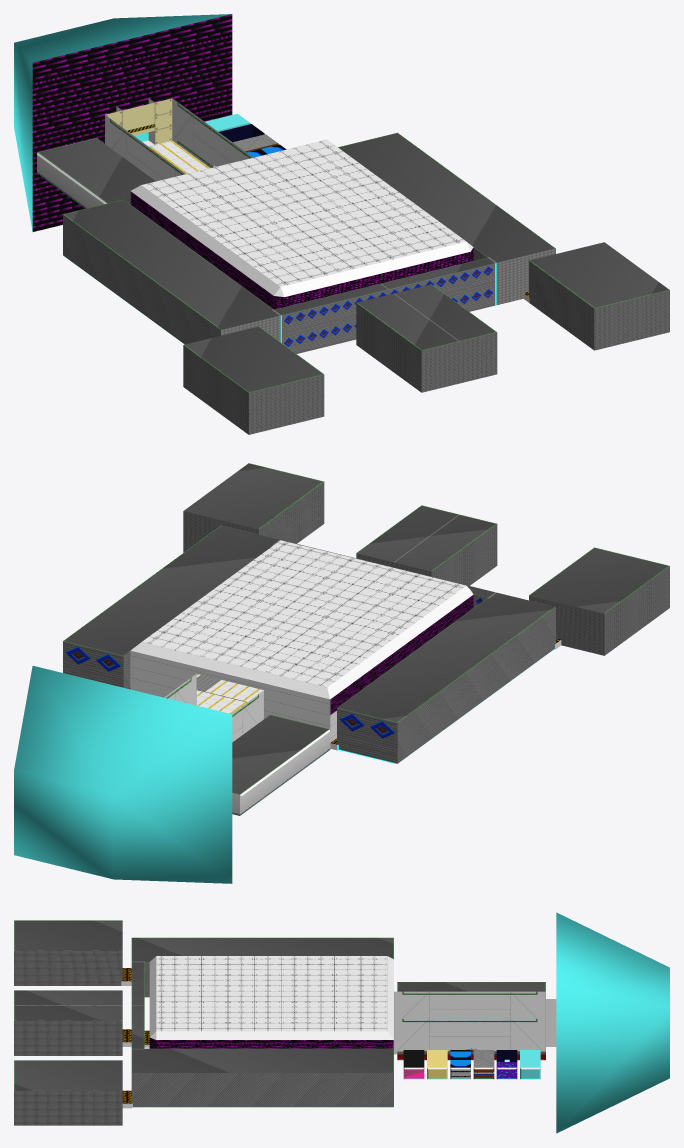
Rendered from SpaceShipLayoutInteriorMeshLayersLightingSubd.fbx.
The picture shows the model from 3 angles, top to bottom: view 1: azimuth 30°, elevation 25°; view 2: azimuth 150°, elevation 25°; view 3: azimuth 270°, elevation 25°; orthographic projection. The views are drawn at different scales.
Visible parts, largest first — view 1: MainCeilings, CockpitBackWall, window, LeftEngineRoomWalls, MiddleEngineRoomWalls, RightEngineRoomWalls, StoreRoomOuterWalls, EngineCorridorWalls, BridgeConnectorWalls, angledCeilings, Bridge2Walls, BridgeAboveDoorwayWalls (+3 smaller); view 2: MainCeilings, window, Bridge2Walls, StoreRoomOuterWalls, LeftEngineRoomWalls, angledCeilings, RightEngineRoomWalls, MiddleEngineRoomWalls, LeftStoreToBridge2Wall, RightStoreToBridge2Wall, LabWalls, BridgeConnectorWalls (+1 smaller); view 3: MainCeilings, window, BridgeConnectorWalls, StoreRoomOuterWalls, MiddleEngineRoomWalls, RightEngineRoomWalls, LeftEngineRoomWalls, angledCeilings, Bridge2Walls, BridgeDoorwayWalls, DoorwayCeilings, Separatorfloors (+7 smaller).
Boxes of the visible parts, box(x1,y1,x2,y2) form: MainCeilings: box(38, 132, 669, 392); CockpitBackWall: box(32, 14, 232, 231); window: box(14, 14, 231, 230); LeftEngineRoomWalls: box(183, 345, 324, 434); MiddleEngineRoomWalls: box(356, 303, 497, 392); RightEngineRoomWalls: box(529, 261, 669, 350); StoreRoomOuterWalls: box(63, 214, 220, 344); EngineCorridorWalls: box(282, 263, 494, 353); BridgeConnectorWalls: box(105, 98, 252, 181); angledCeilings: box(131, 185, 473, 296); Bridge2Walls: box(130, 191, 473, 309); BridgeAboveDoorwayWalls: box(105, 98, 172, 144); MainCeilings: box(63, 463, 669, 794); window: box(14, 666, 232, 883); Bridge2Walls: box(130, 594, 473, 742); StoreRoomOuterWalls: box(397, 607, 555, 763); LeftEngineRoomWalls: box(529, 566, 669, 655); angledCeilings: box(131, 586, 473, 699); RightEngineRoomWalls: box(183, 482, 324, 552); MiddleEngineRoomWalls: box(356, 524, 497, 585); LeftStoreToBridge2Wall: box(337, 708, 397, 763); RightStoreToBridge2Wall: box(63, 641, 123, 687); LabWalls: box(232, 732, 330, 815); BridgeConnectorWalls: box(164, 674, 263, 741); MainCeilings: box(14, 920, 545, 1090); window: box(556, 912, 669, 1133); BridgeConnectorWalls: box(394, 991, 545, 1054); StoreRoomOuterWalls: box(131, 1073, 393, 1106); MiddleEngineRoomWalls: box(14, 1021, 122, 1055); RightEngineRoomWalls: box(14, 1091, 122, 1125); LeftEngineRoomWalls: box(14, 951, 122, 985); angledCeilings: box(149, 956, 393, 1039); Bridge2Walls: box(149, 1037, 393, 1048); BridgeDoorwayWalls: box(546, 999, 556, 1046); DoorwayCeilings: box(122, 968, 476, 1103); Separatorfloors: box(132, 1060, 539, 1107).
Bounding box in the file's own units: 312 × 120 × 508.
43 materials, 34 textured.
